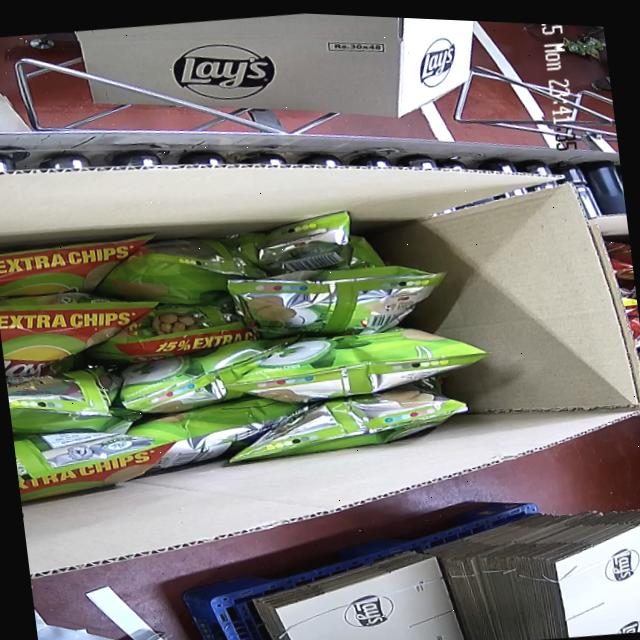YOGURT_HERB: (0, 169, 503, 552)
